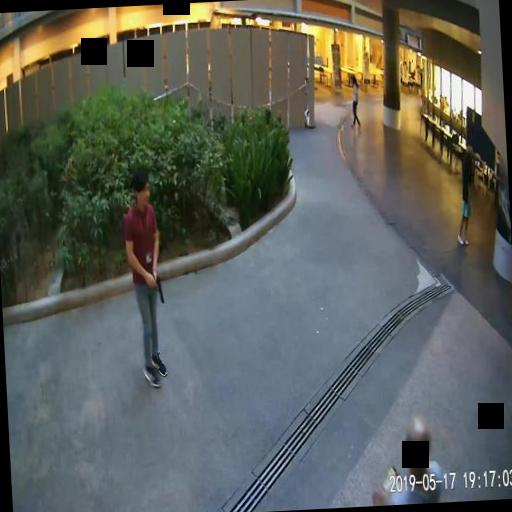Handgun: (150, 274, 162, 303)
